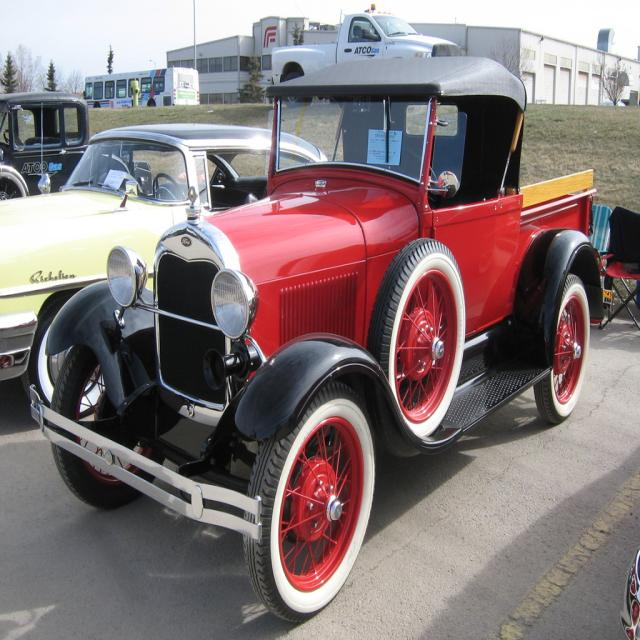car: (25, 17, 617, 618)
